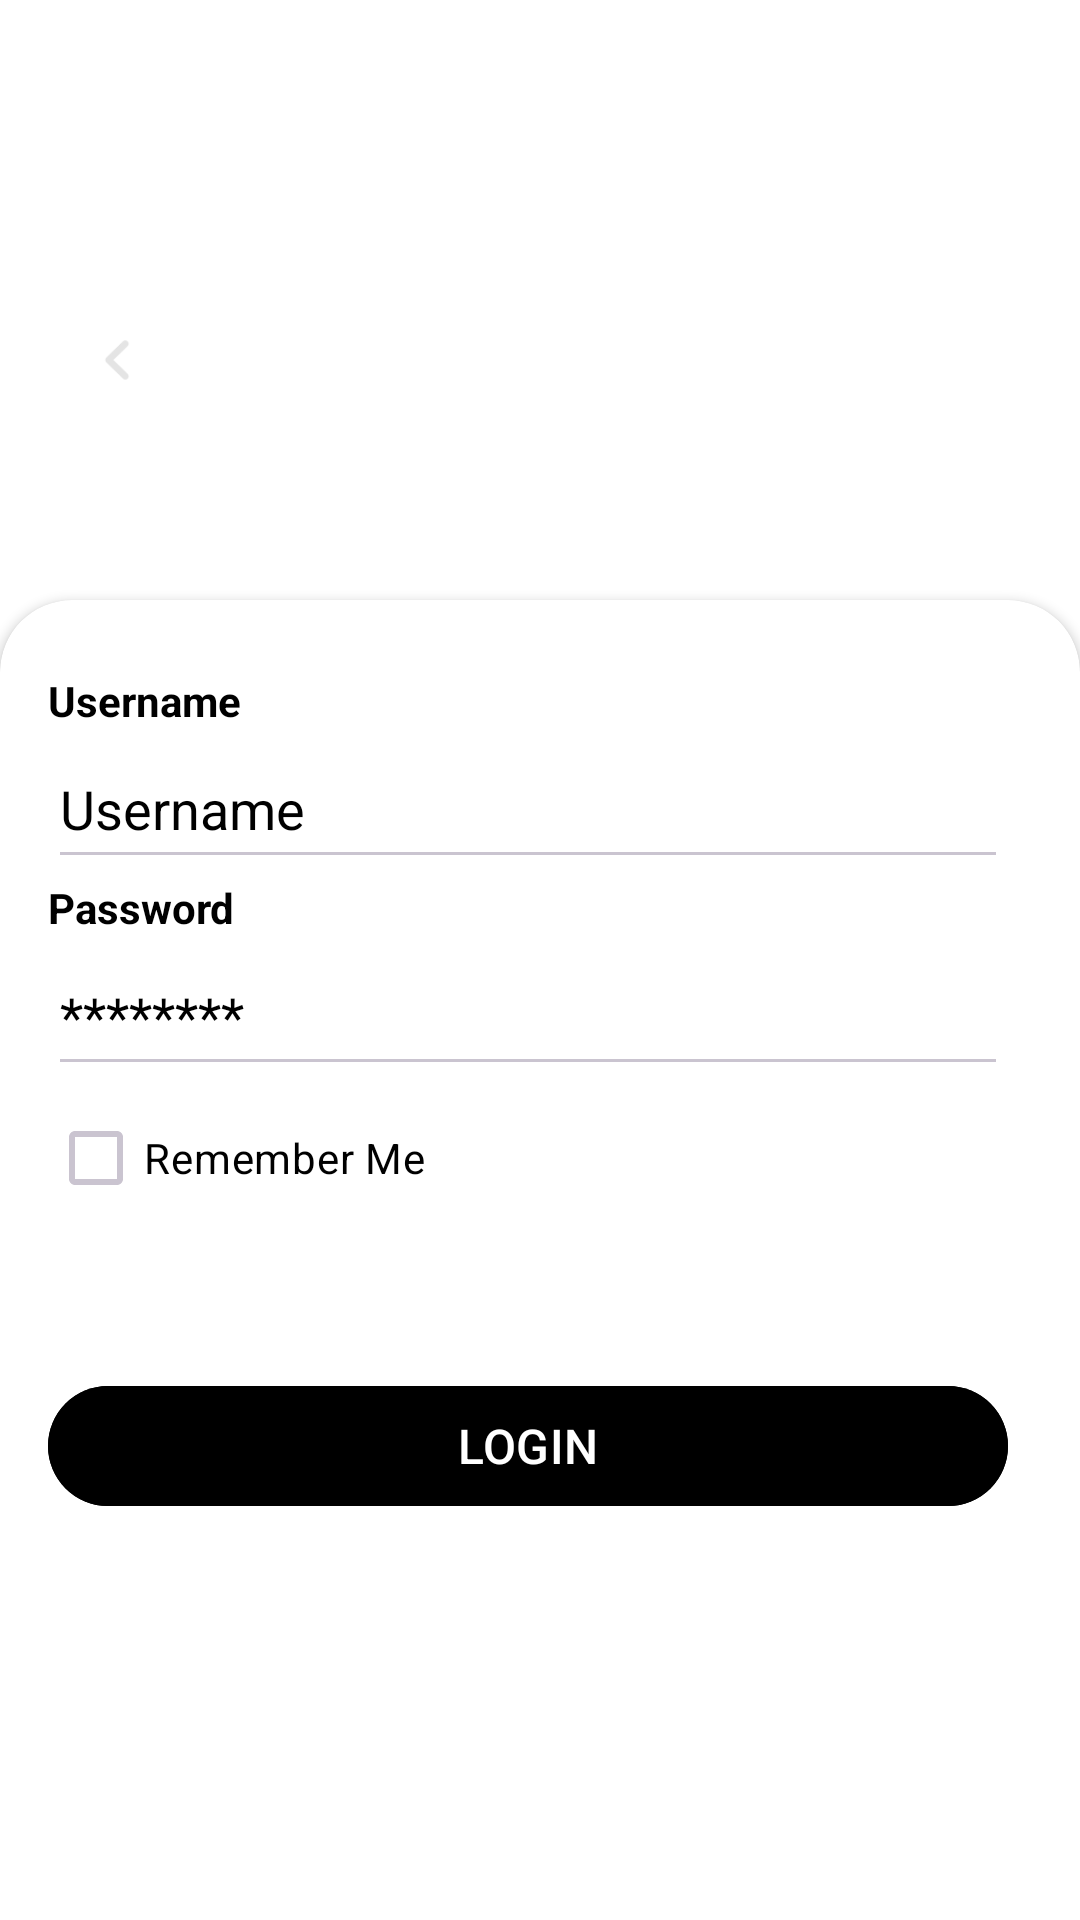

Screen size 1080*1920. Icon name, then its box in pixels as [x1,y1,x2,y2]:
back: [106,341,128,379]
